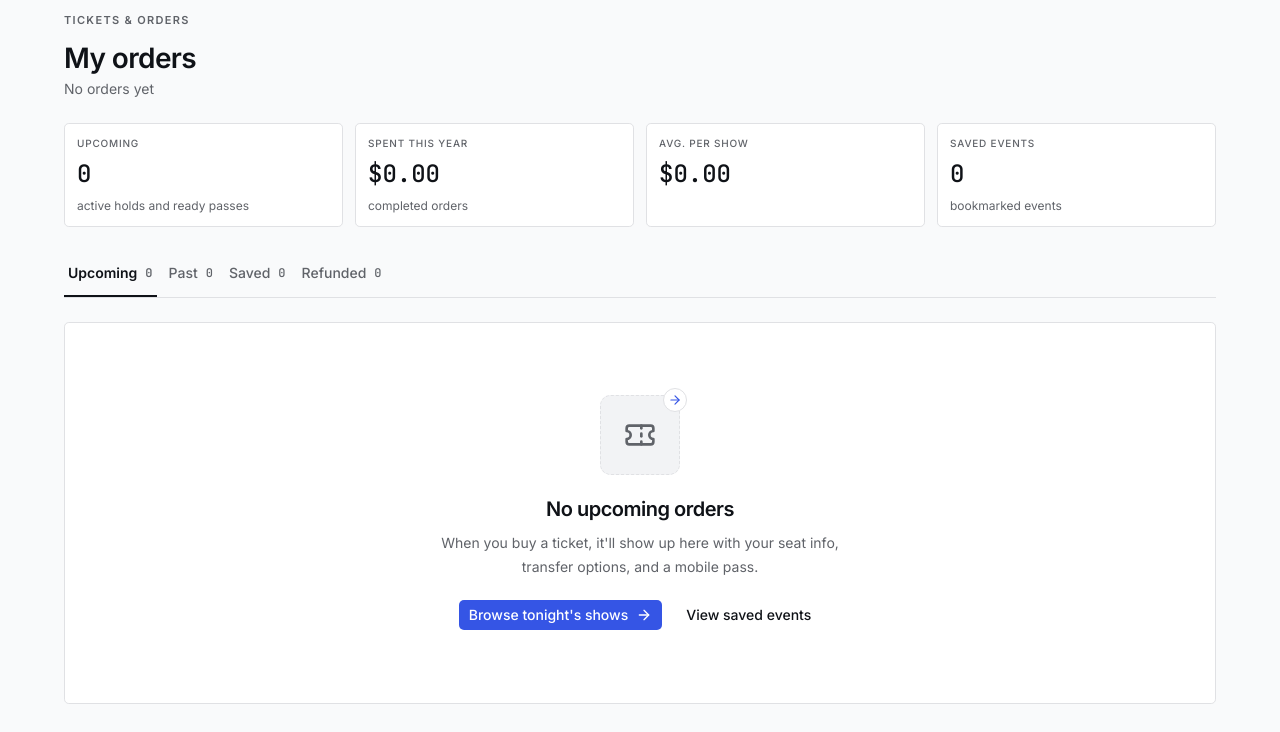
it: OrdersOverview › switches to the saved tab from the empty-state CTA
Step 1. Click the button "View saved events" → {"x": 749, "y": 615}, box [675,599,822,631]
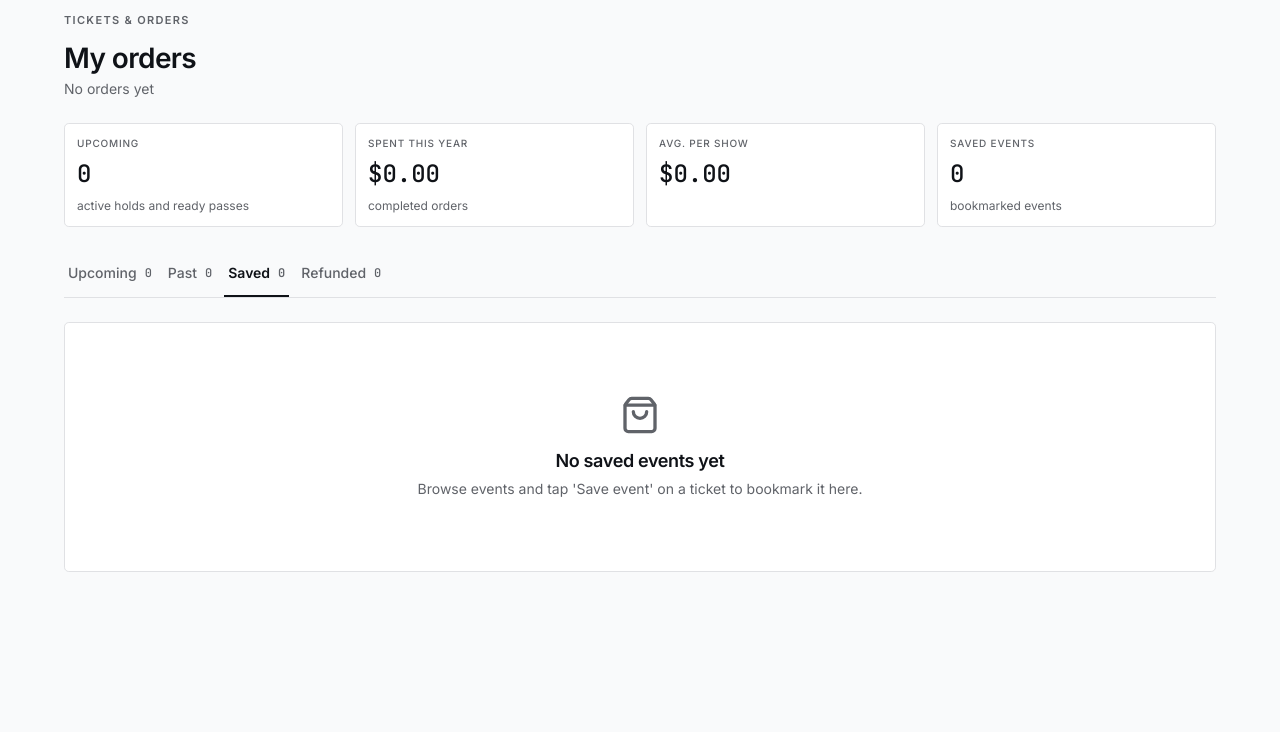
expect the heading "No saved events yet" is shown: met, box [556,450,724,471]
